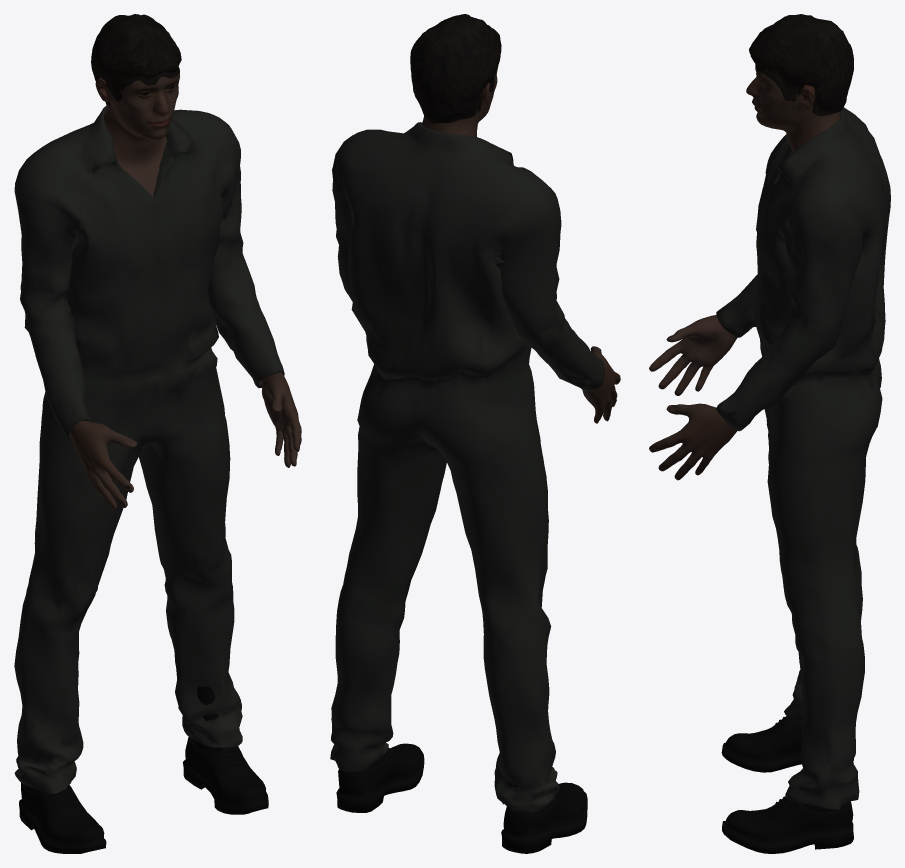
File: cussac-being.glb
The picture shows the model from 3 angles, left to right: view 1: azimuth 30°, elevation 25°; view 2: azimuth 150°, elevation 25°; view 3: azimuth 270°, elevation 25°; orthographic projection.
Visible parts, largest first — view 1: Human.male_coverall01.001, Human.001, Human.shoes03.001, Human.short02.001; view 2: Human.male_coverall01.001, Human.short02.001, Human.shoes03.001, Human.001; view 3: Human.male_coverall01.001, Human.001, Human.shoes03.001, Human.short02.001.
Boxes of the visible parts, x1,y1,x2,y2 form: Human.male_coverall01.001: (14,106,284,793); Human.001: (69,72,301,510); Human.shoes03.001: (19,686,268,853); Human.short02.001: (91,14,181,106); Human.male_coverall01.001: (330,122,604,812); Human.short02.001: (410,14,501,123); Human.shoes03.001: (336,743,587,853); Human.001: (421,66,620,423); Human.male_coverall01.001: (716,107,890,809); Human.001: (649,64,840,480); Human.shoes03.001: (721,716,853,853); Human.short02.001: (749,14,853,115).
Bounding box in the file's own units: 0.2976 × 1 × 0.2805.
6 materials, 6 textured.
